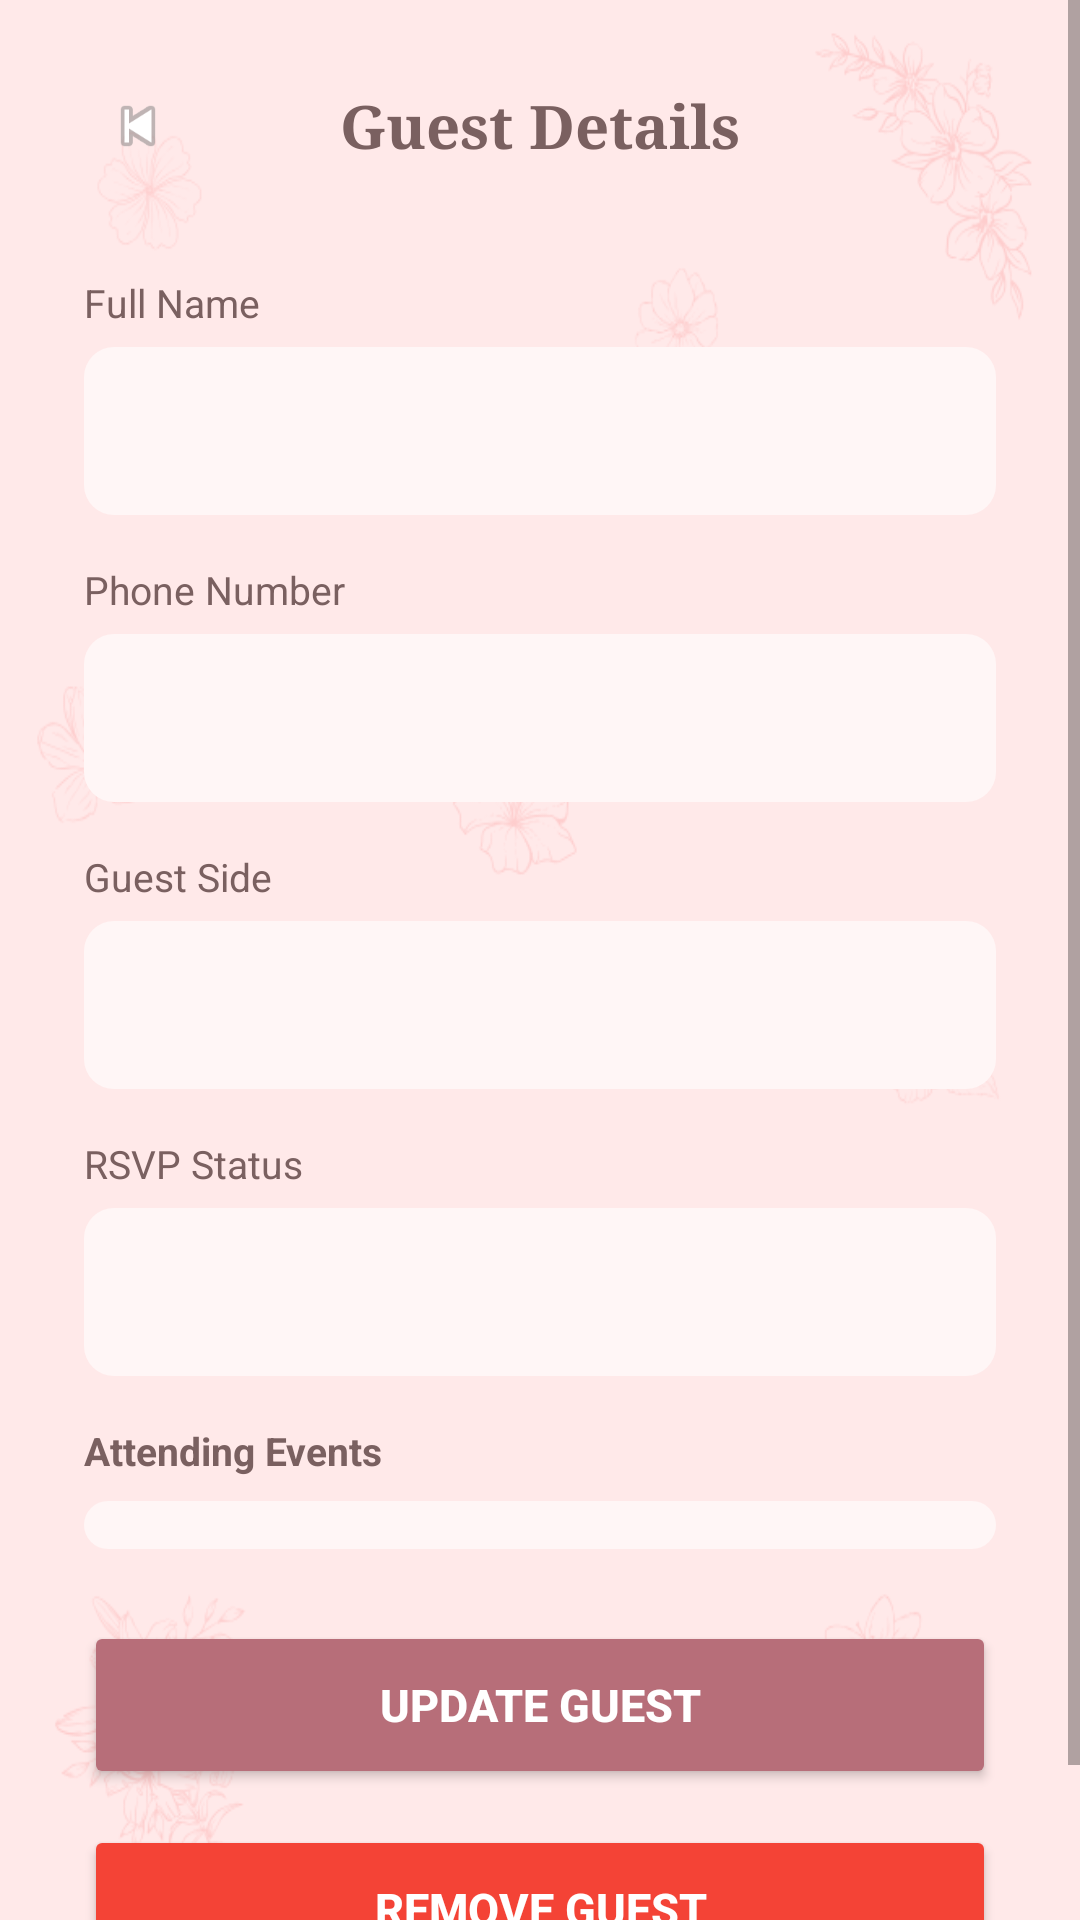

Icons on this 1080x1920 Android screen, each with its box as (x1,y1,x2,y2):
Back: (121,106,155,146)
